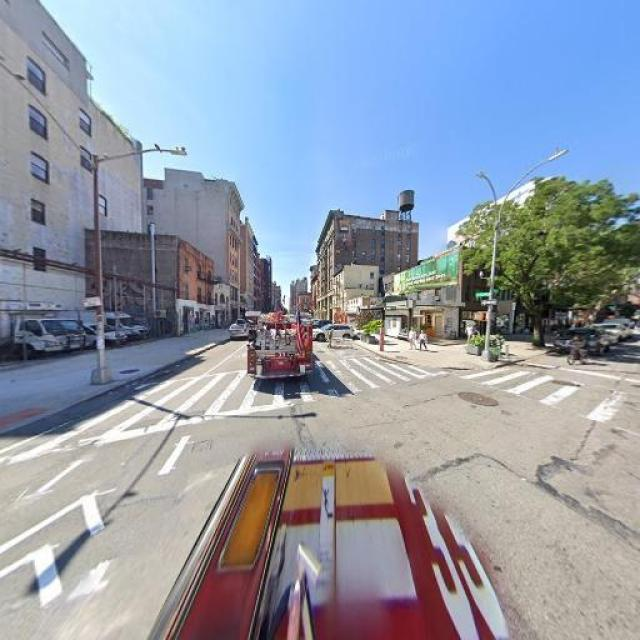Building: (1, 1, 82, 339), (84, 230, 214, 334), (384, 245, 462, 342)
